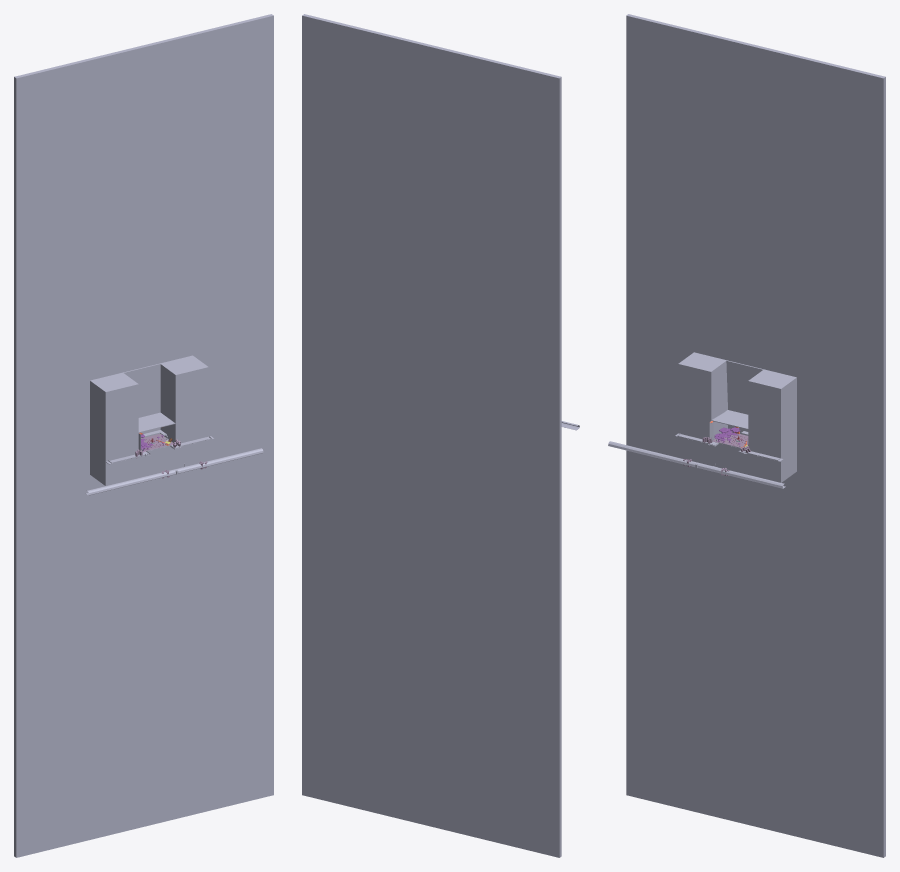
File: Blocking le N'Autre.fbx
3 views of the same model, side by side, from view 1: azimuth 30°, elevation 25°; view 2: azimuth 150°, elevation 25°; view 3: azimuth 330°, elevation 25° (orthographic).
Parts seen in each view (by area): view 1: Débris, Structure, Balcon, polySurface3; view 2: Débris; view 3: Débris, Structure, Balcon, polySurface3.
Boxes of the visible parts, <box> form: Débris: <box>14,14,273,857</box>; Structure: <box>90,355,208,485</box>; Balcon: <box>86,448,263,495</box>; polySurface3: <box>138,412,175,450</box>; Débris: <box>302,14,561,857</box>; Débris: <box>626,14,885,857</box>; Structure: <box>678,352,796,482</box>; Balcon: <box>608,441,785,488</box>; polySurface3: <box>709,410,748,440</box>.
Bounding box in the file's own units: 33542 × 97057 × 10805.
